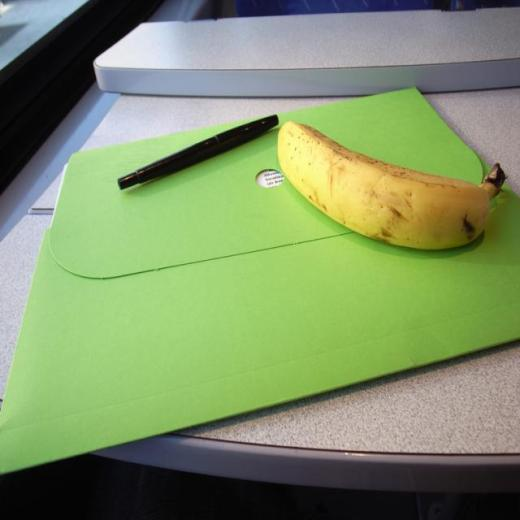Banana: (274, 110, 506, 252)
